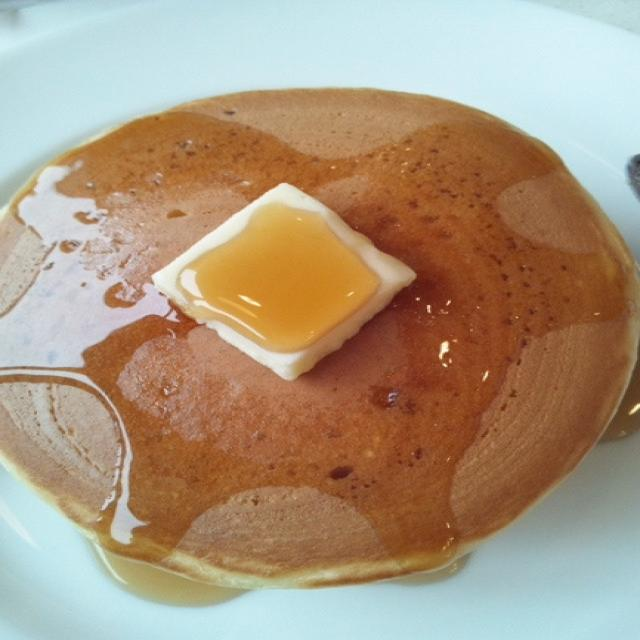蛋糕甜品: (3, 27, 630, 618)
